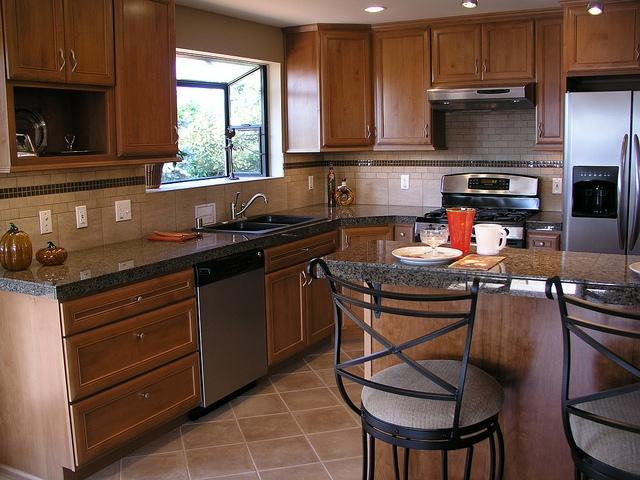pumpkin: (0, 222, 33, 271), (36, 241, 68, 265)
